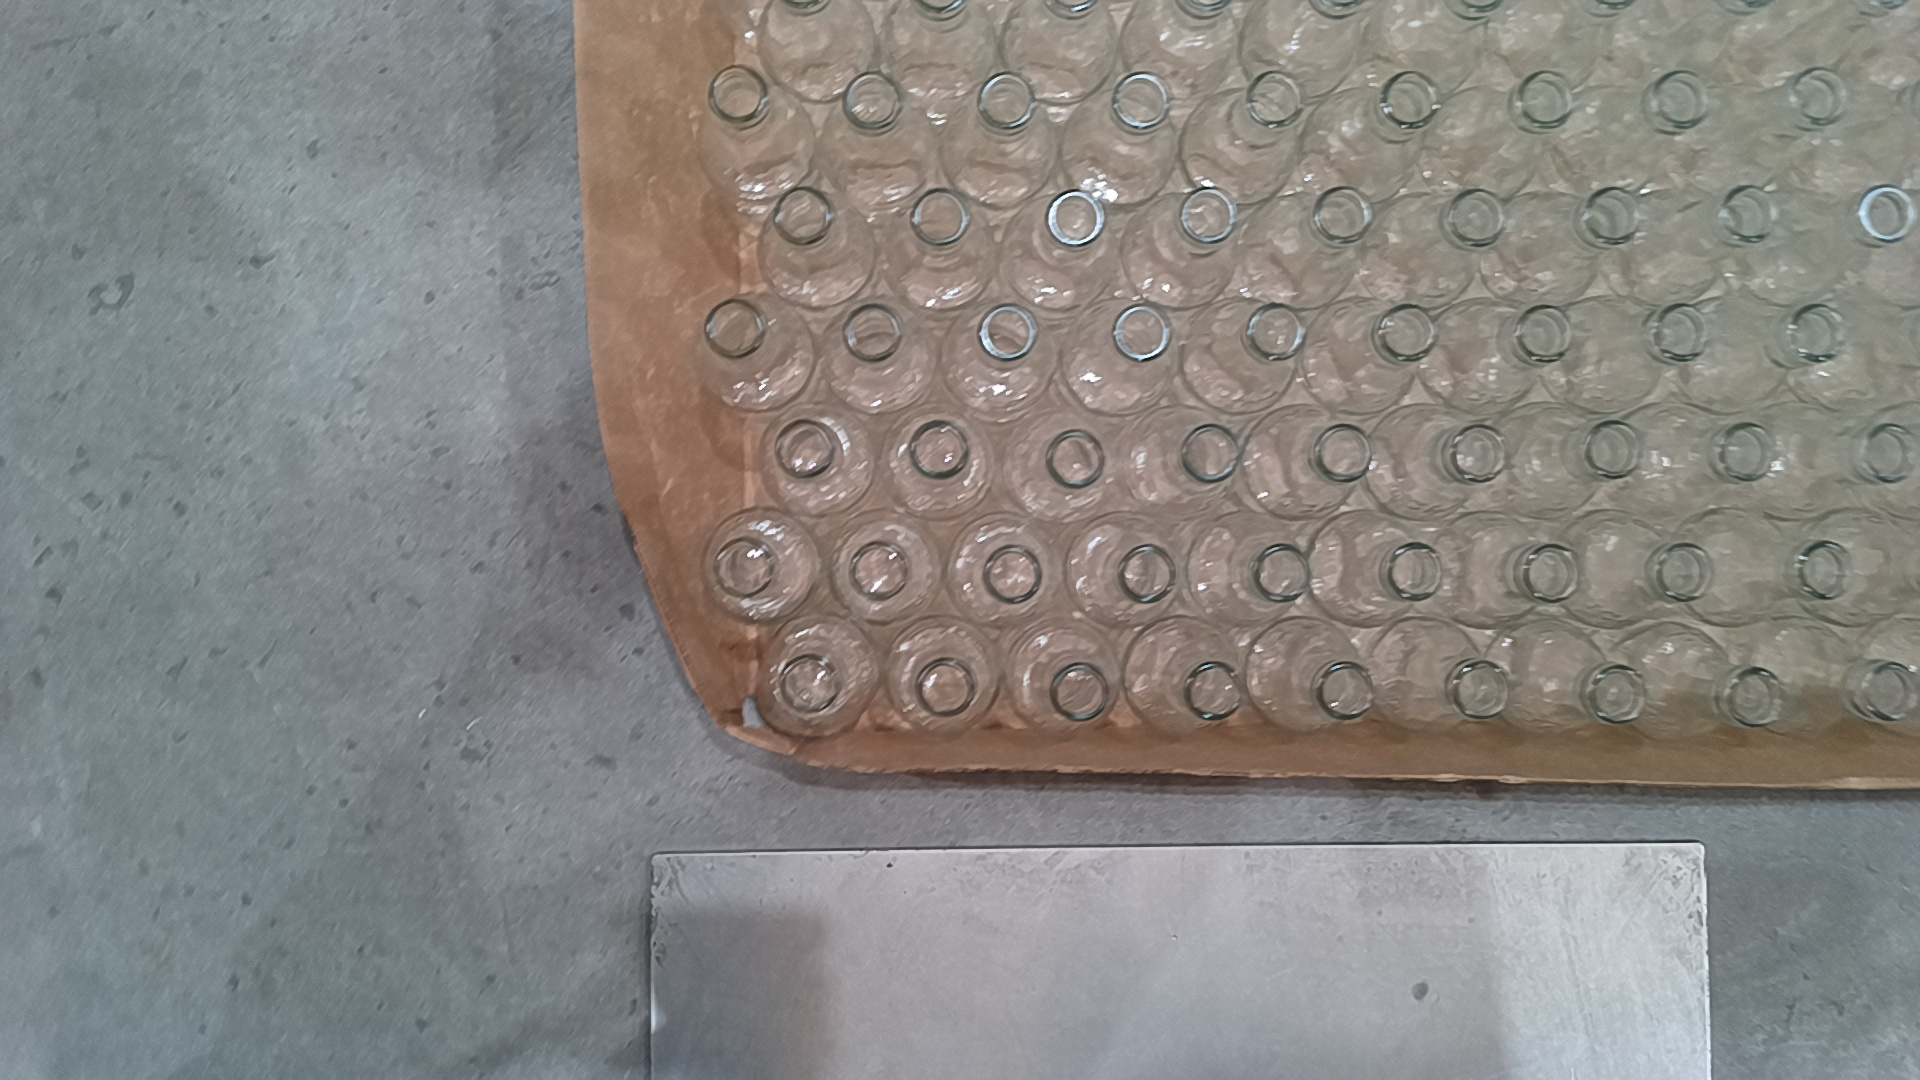bottle: (1718, 655, 1787, 742), (765, 415, 847, 485), (702, 287, 767, 367), (1854, 655, 1920, 735), (1443, 655, 1509, 731), (1590, 654, 1650, 735), (1315, 655, 1379, 729), (773, 651, 840, 719), (1048, 659, 1116, 727), (715, 534, 786, 597), (1180, 658, 1247, 723), (773, 183, 837, 249), (915, 647, 976, 717), (702, 63, 770, 124)
